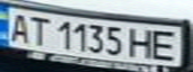1: (51, 18, 72, 51), (69, 19, 87, 52)
3: (84, 21, 106, 55)
5: (103, 24, 127, 56)
A: (3, 10, 33, 44)
E: (148, 27, 184, 62)
H: (124, 25, 160, 60)
T: (27, 13, 54, 46)
